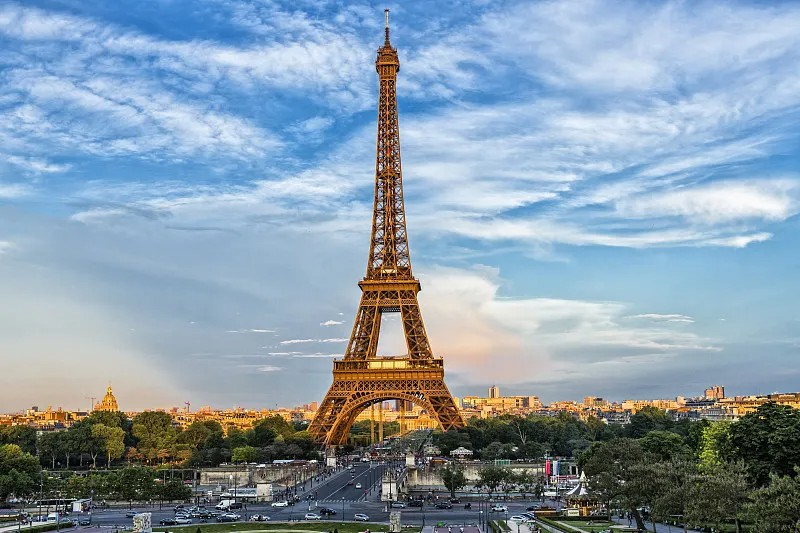Eiffel: (306, 7, 465, 450)
